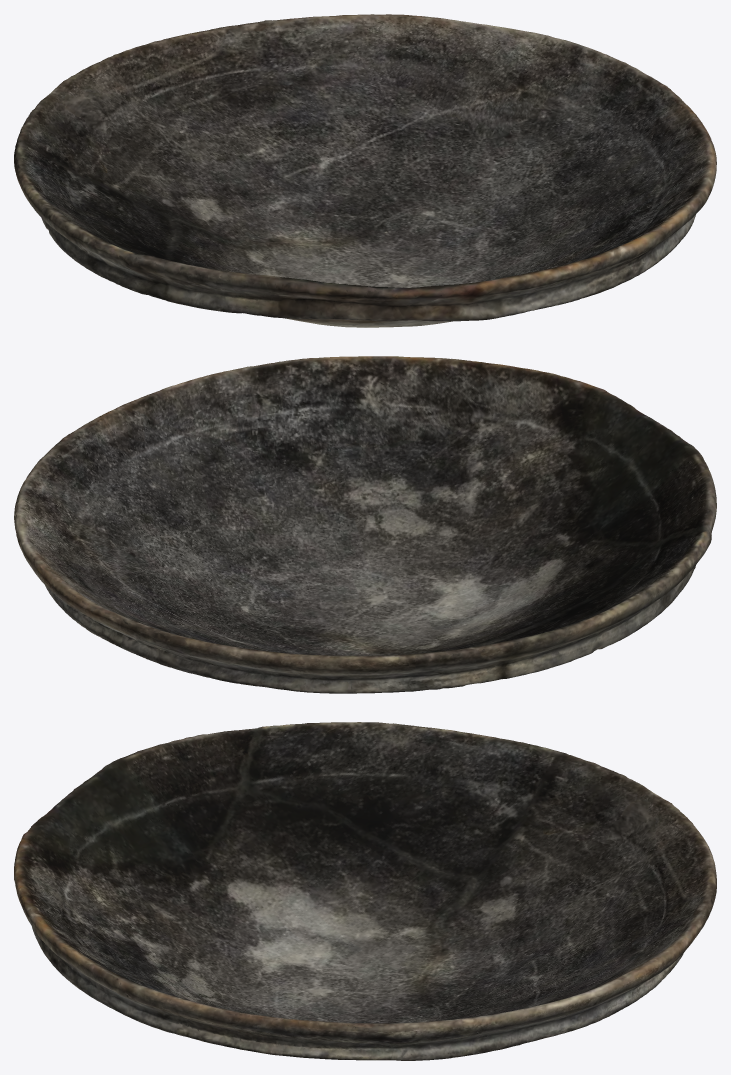
3 views of the same model, one above another, from view 1: azimuth 30°, elevation 25°; view 2: azimuth 150°, elevation 25°; view 3: azimuth 270°, elevation 25° (orthographic).
Visible parts, largest first — view 1: Mesh_0.002; view 2: Mesh_0.002; view 3: Mesh_0.002.
Part boxes in pixels (x1,y1,x2,y2): Mesh_0.002: (14,14,716,327); Mesh_0.002: (14,356,716,693); Mesh_0.002: (14,722,716,1060).
Size of the model in its own units: 0.2256 by 0.0503 by 0.2256.
Materials: 1 (1 with a texture image).
